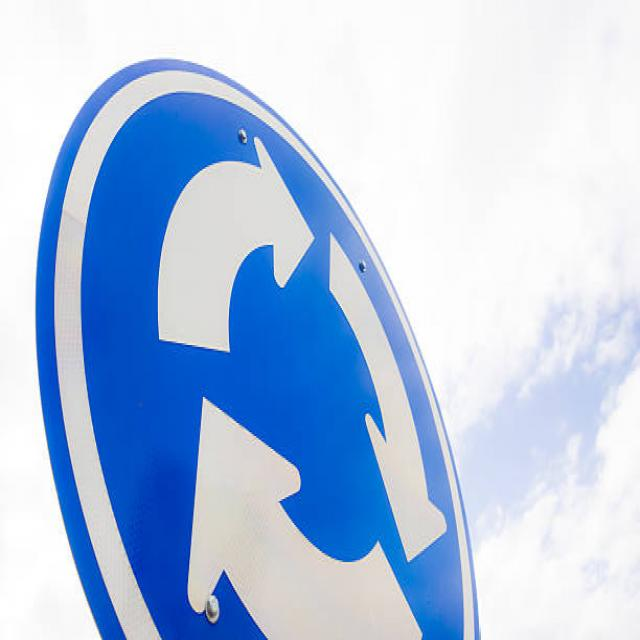round_about: (33, 52, 483, 640)
